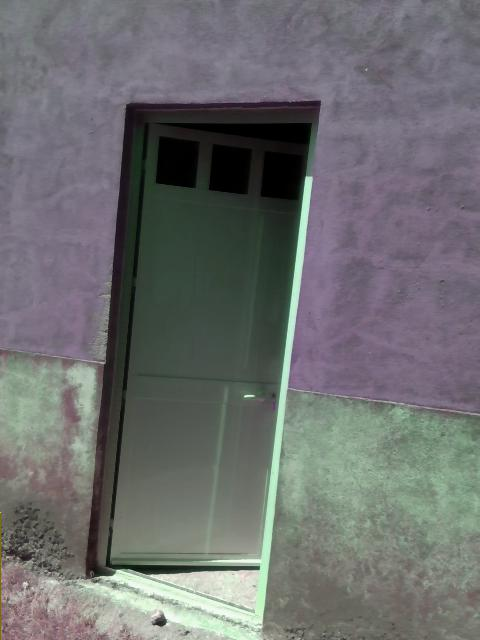semi_door: (78, 93, 324, 581)
